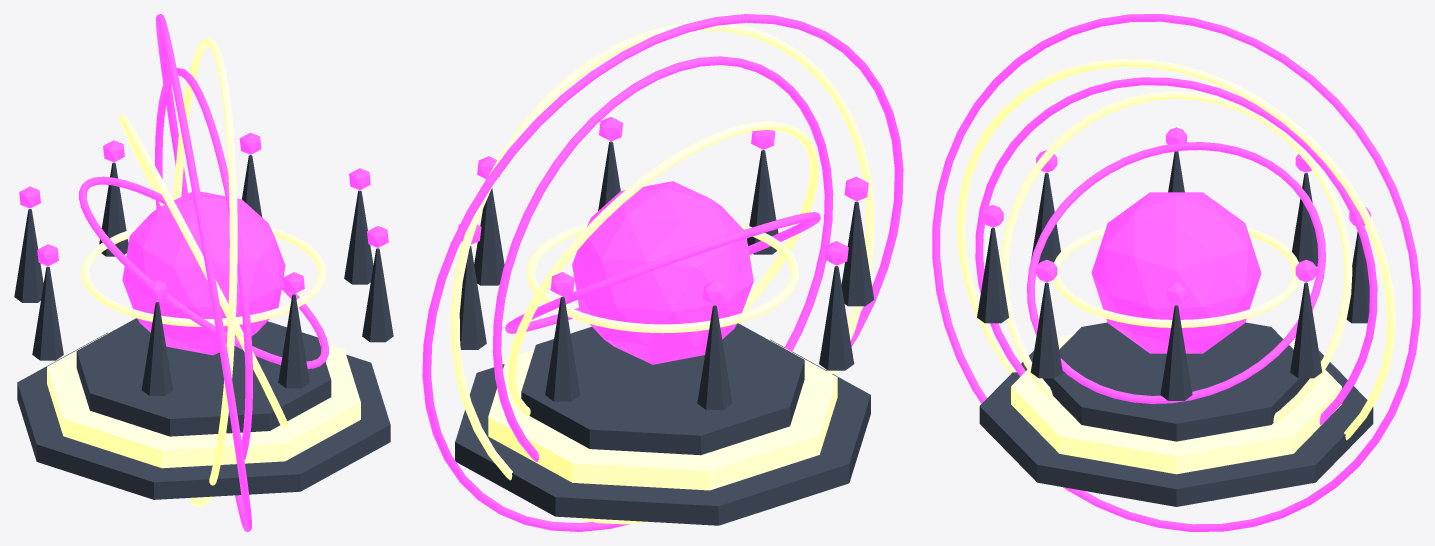
Rendered from gpu-blender-v1.glb.
3 views of the same model, side by side, from view 1: azimuth 30°, elevation 25°; view 2: azimuth 150°, elevation 25°; view 3: azimuth 270°, elevation 25° (orthographic). The views are drawn at different scales.
Parts seen in each view (by area): view 1: Cylinder.002, Cylinder, SovereignCore_mcp-lens, Cylinder.001, Torus.005, Torus.004, Torus.003, Torus.001, Torus, Torus.002, Cone.007, Cone.006 (+6 smaller); view 2: Cylinder.002, SovereignCore_mcp-lens, Cylinder, Cylinder.001, Torus.005, Torus.004, Torus.003, Torus.002, Torus.001, Torus, Cone.004, Cone.002 (+6 smaller); view 3: SovereignCore_mcp-lens, Cylinder.002, Cylinder, Cylinder.001, Torus.005, Torus.004, Torus.003, Torus.002, Torus.001, Torus, Cone.001, Cone.007 (+5 smaller).
Part boxes in pixels (box(x1,y1,x2,y2)): Cylinder.002: box(76, 318, 331, 436); Cylinder: box(17, 332, 390, 499); SovereignCore_mcp-lens: box(122, 191, 285, 355); Cylinder.001: box(47, 325, 360, 468); Torus.005: box(156, 14, 251, 531); Torus.004: box(173, 38, 237, 507); Torus.003: box(155, 68, 252, 459); Torus.001: box(79, 176, 328, 368); Torus: box(81, 227, 326, 326); Torus.002: box(118, 114, 287, 426); Cone.007: box(362, 248, 393, 342); Cone.006: box(278, 294, 309, 388); Cylinder.002: box(521, 323, 804, 455); SovereignCore_mcp-lens: box(572, 181, 753, 364); Cylinder: box(455, 339, 870, 525); Cylinder.001: box(488, 330, 837, 490); Torus.005: box(422, 14, 903, 531); Torus.004: box(451, 22, 874, 524); Torus.003: box(492, 56, 833, 461); Torus.002: box(507, 121, 818, 416); Torus.001: box(505, 212, 820, 333); Torus: box(526, 222, 799, 333); Cone.004: box(819, 266, 854, 370); Cone.002: box(545, 297, 580, 401); SovereignCore_mcp-lens: box(1091, 192, 1261, 353); Cylinder.002: box(1043, 322, 1309, 441); Cylinder: box(979, 351, 1373, 506); Cylinder.001: box(1011, 334, 1341, 474); Torus.005: box(932, 14, 1420, 531); Torus.004: box(957, 59, 1395, 440); Torus.003: box(975, 77, 1377, 424); Torus.002: box(1001, 91, 1352, 423); Torus.001: box(1027, 142, 1325, 403); Torus: box(1053, 227, 1299, 327); Cone.001: box(1290, 282, 1322, 378); Cone.007: box(1030, 282, 1062, 378).
Size of the model in its own units: 4.41 by 5.93 by 5.46.
